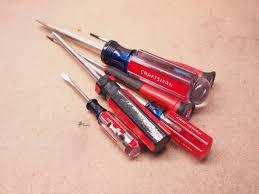screwdriver: (49, 30, 177, 152), (59, 70, 144, 158)
